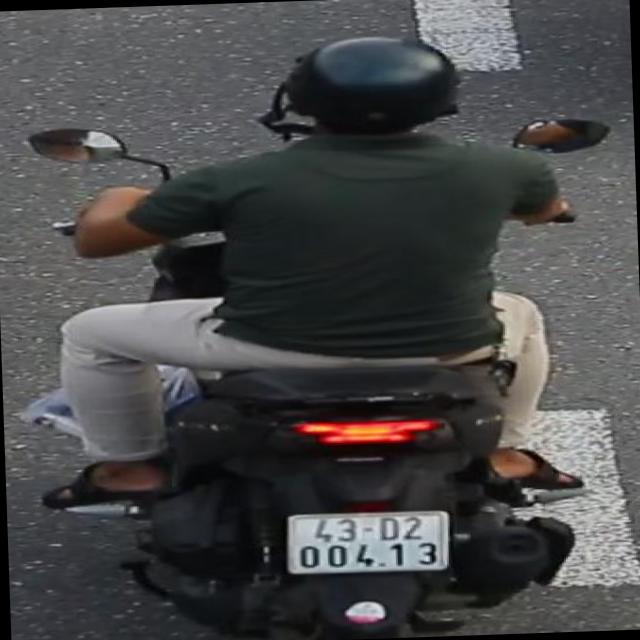LP: (278, 505, 460, 582)
helmet: (254, 26, 468, 152)
